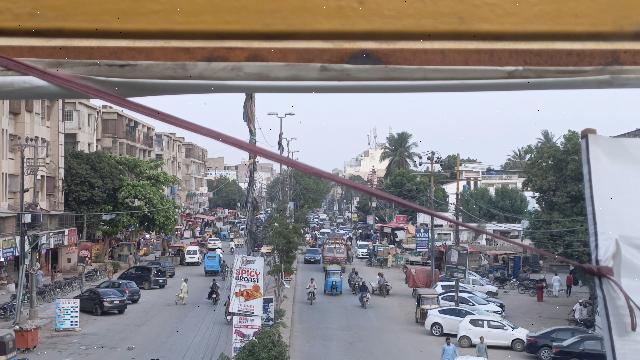Bike: (306, 288, 319, 305), (360, 291, 371, 311), (208, 291, 220, 307), (353, 279, 362, 297), (219, 268, 228, 282)
Bus: (320, 234, 348, 271)
Car: (456, 314, 530, 351), (524, 323, 589, 357), (423, 304, 479, 337), (72, 288, 128, 316), (441, 292, 505, 316), (549, 333, 604, 360), (119, 264, 170, 290), (98, 280, 141, 302), (303, 246, 322, 266)
Cart: (368, 272, 394, 297)
Person: (174, 276, 190, 306), (437, 336, 457, 360), (549, 271, 565, 300), (473, 336, 490, 357), (564, 270, 575, 298), (305, 275, 319, 291), (209, 276, 222, 293), (105, 264, 117, 280), (359, 280, 371, 295), (219, 258, 230, 272), (377, 273, 388, 285), (348, 265, 356, 278), (353, 270, 361, 280)
Rickshaw: (412, 286, 440, 325), (322, 265, 344, 296), (203, 253, 223, 277)
Van: (183, 245, 204, 266)
